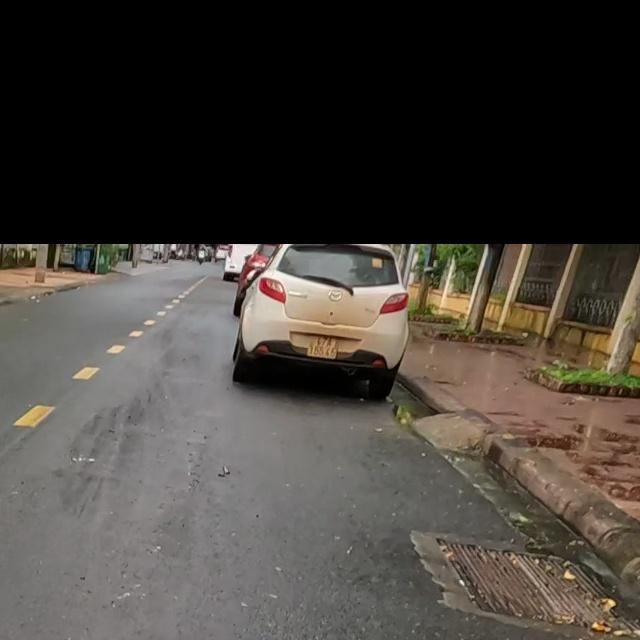license-plate: (307, 336, 338, 359)
